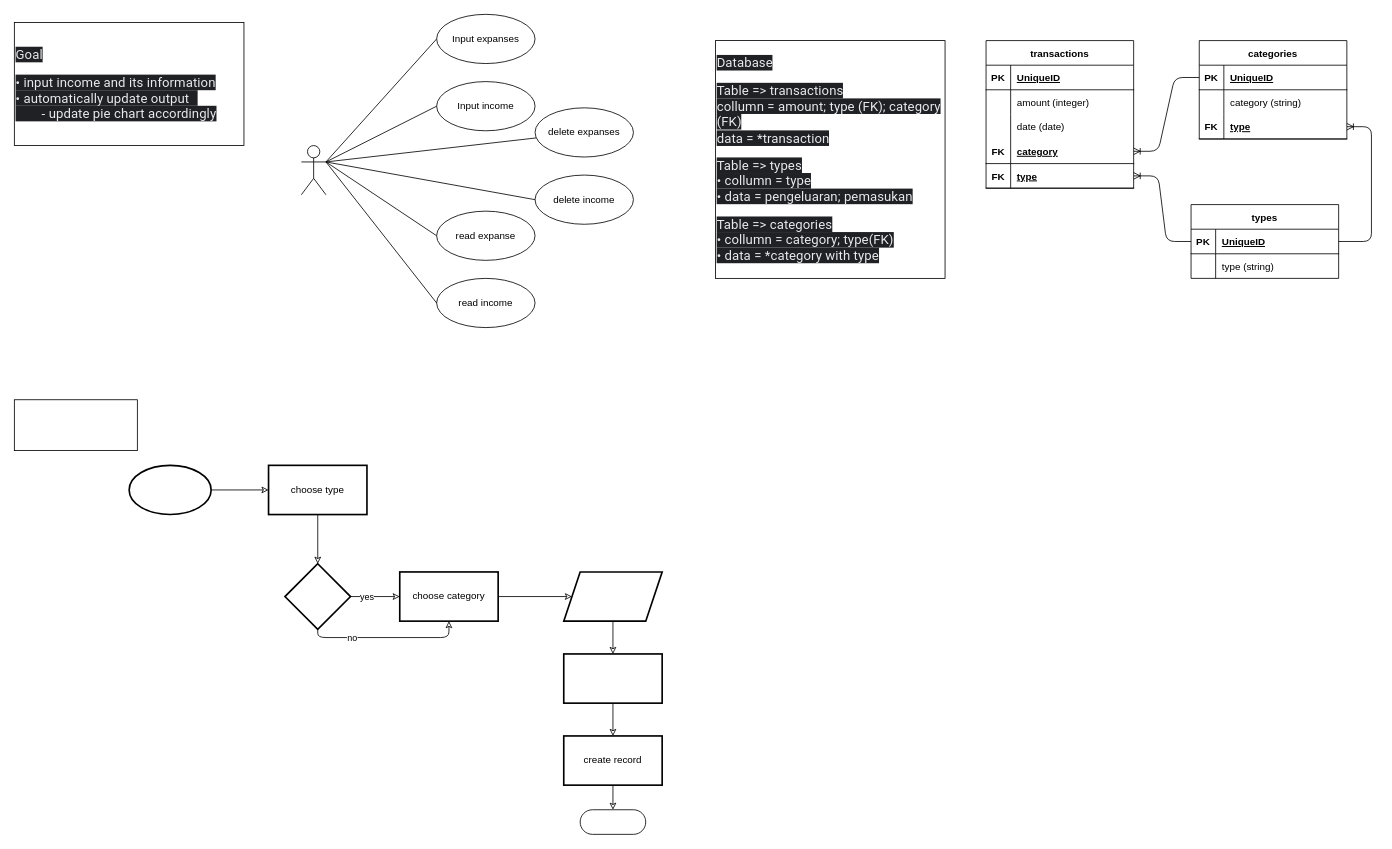
The diagram is 1392 pixels wide and 849 high, and some of its shapes have lost their labels. The shapes that lost their labels are listed below. From the top down, each one's centre as x and y in pixels, then its label:
At point (313, 170): "Actor".
At point (75, 425): "Flow".
At point (170, 489): "Start".
At point (317, 596): "is expanse?".
At point (613, 596): "input amount".
At point (613, 678): "choose date".
At point (612, 821): "end".
